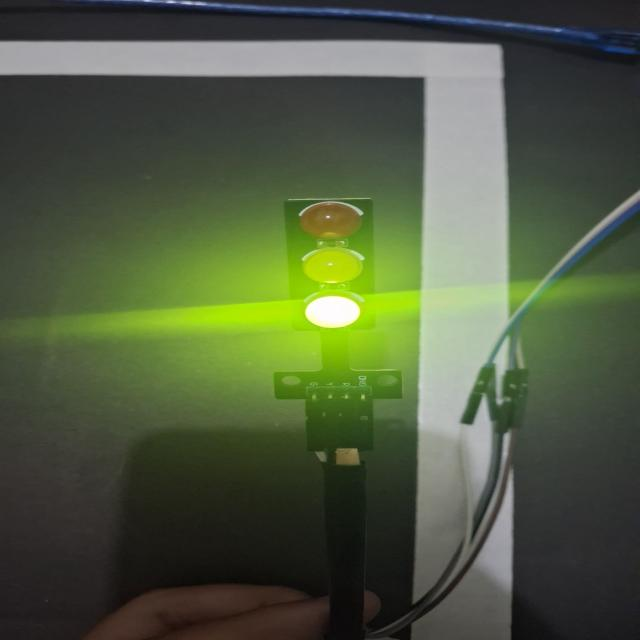Lampu Hijau: (281, 195, 378, 336)
